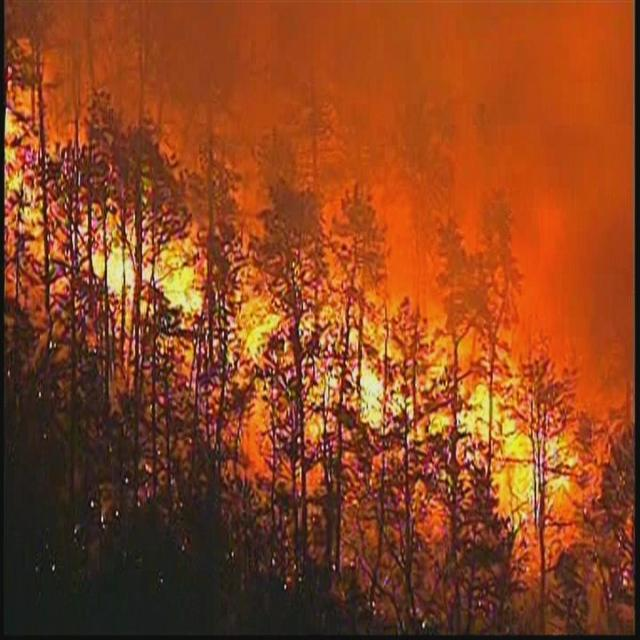Fire: (6, 92, 215, 341), (239, 267, 418, 424), (447, 358, 593, 534)
Smoke: (27, 0, 640, 322)
